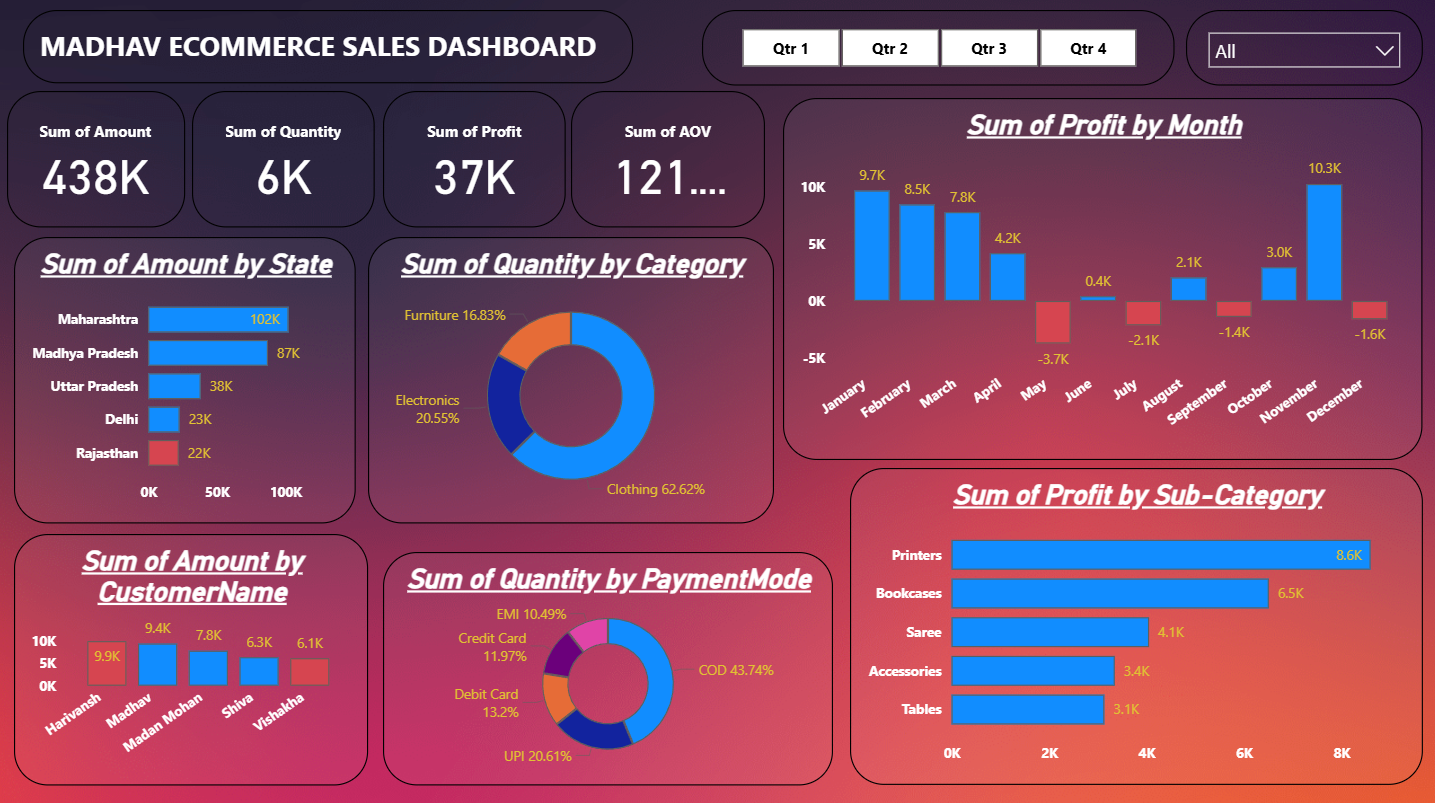

The page's visual inventory and layout, read from the dashboard file:
{"tool":"powerbi","page":{"name":"Page 1","canvas":[1280,720],"ordinal":0},"visuals":[{"type":"textbox","box":[23.1,13.3,540.9,64.7],"z":0},{"type":"columnChart","fields":{"Category":["Orders.Order Date.Variation.Date Hierarchy.Month"],"Y":["Details.Profit"]},"box":[696.9,91.3,567.5,321],"z":1},{"type":"barChart","fields":{"Category":["Details.Sub-Category"],"Y":["Details.Profit"]},"box":[756.4,419.4,508.1,281.1],"z":2},{"type":"donutChart","fields":{"Category":["Details.Category"],"Y":["Details.Quantity"]},"box":[329,214.6,360,254.5],"z":3},{"type":"donutChart","fields":{"Y":["Details.Quantity"],"Category":["Details.PaymentMode"]},"box":[342.3,493.9,399,206.6],"z":4},{"type":"cardVisual","fields":{"Data":["Details.Amount"]},"box":[8.9,85.1,157.8,121.5],"z":5},{"type":"cardVisual","fields":{"Data":["Details.Quantity"]},"box":[172.9,85.1,162.3,121.5],"z":6},{"type":"cardVisual","fields":{"Data":["Details.Profit"]},"box":[342.3,85.1,162.3,121.5],"z":7},{"type":"cardVisual","fields":{"Data":["Details.AOV"]},"box":[509,85.1,172,121.5],"z":8},{"type":"barChart","fields":{"Category":["Orders.State"],"Y":["Details.Amount"]},"box":[15.1,214.6,303.3,254.5],"z":9},{"type":"columnChart","fields":{"Category":["Orders.CustomerName"],"Y":["Details.Amount"]},"box":[15.1,477.9,313.9,222.6],"z":10},{"type":"slicer","fields":{"Values":["Orders.Order Date.Variation.Date Hierarchy.Quarter"]},"box":[625.1,13.3,419.4,66.5],"z":11},{"type":"slicer","fields":{"Values":["Orders.State"]},"box":[1054.3,13.3,210.1,66.5],"z":12}]}

Visuals, with their boxes in screenshot pixels (x1, y1, x2, y2), scaled from the page's 1280x720 canvas onto the 1435x803 screenshot:
textbox: bbox(26, 15, 632, 87)
columnChart - Orders.Order Date.Variation.Date Hierarchy.Month x Details.Profit: bbox(781, 102, 1418, 460)
barChart - Details.Sub-Category x Details.Profit: bbox(848, 468, 1418, 781)
donutChart - Details.Category x Details.Quantity: bbox(369, 239, 772, 523)
donutChart - Details.Quantity x Details.PaymentMode: bbox(384, 551, 831, 781)
cardVisual - Details.Amount: bbox(10, 95, 187, 230)
cardVisual - Details.Quantity: bbox(194, 95, 376, 230)
cardVisual - Details.Profit: bbox(384, 95, 566, 230)
cardVisual - Details.AOV: bbox(571, 95, 763, 230)
barChart - Orders.State x Details.Amount: bbox(17, 239, 357, 523)
columnChart - Orders.CustomerName x Details.Amount: bbox(17, 533, 369, 781)
slicer - Orders.Order Date.Variation.Date Hierarchy.Quarter: bbox(701, 15, 1171, 89)
slicer - Orders.State: bbox(1182, 15, 1418, 89)
